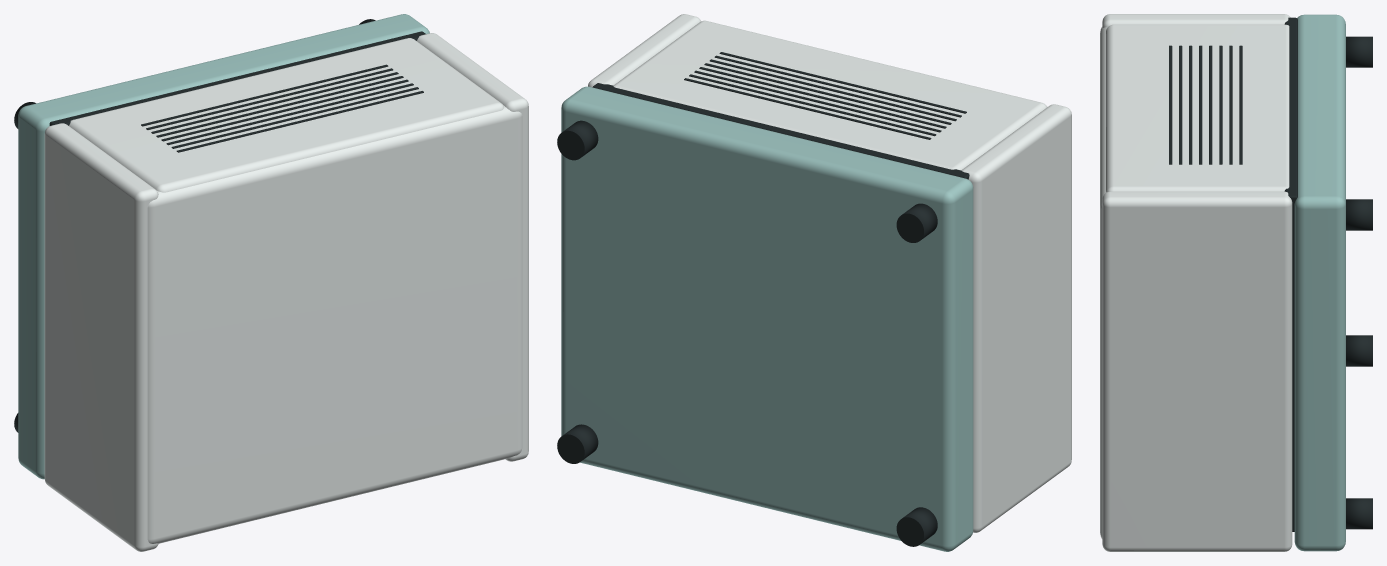
The picture shows the model from 3 angles, left to right: view 1: azimuth 30°, elevation 25°; view 2: azimuth 150°, elevation 25°; view 3: azimuth 270°, elevation 25°; orthographic projection.
Visible parts, largest first — view 1: top_cover, left_wall, rear_wall, base_plinth, right_wall, chamber_floor, rear_vent_3, rear_vent_4, rear_vent_0, rear_vent_1, rear_vent_2, rear_vent_6 (+2 smaller); view 2: base_plinth, left_wall, rear_wall, chamber_floor, right_wall, foot_1_0, foot_0_0, foot_1_1, foot_0_1, rear_vent_2, rear_vent_5, rear_vent_4 (+5 smaller); view 3: right_wall, rear_wall, base_plinth, chamber_floor, left_wall, top_cover, foot_0_0, foot_0_1, foot_1_0, foot_1_1, rear_vent_1, rear_vent_2 (+6 smaller).
Part boxes in pixels (left/top/right/bottom): top_cover: left=147, top=105, right=522, bottom=543; left_wall: left=44, top=123, right=158, bottom=551; rear_wall: left=69, top=38, right=503, bottom=192; base_plinth: left=18, top=14, right=429, bottom=479; right_wall: left=417, top=33, right=528, bottom=461; chamber_floor: left=49, top=31, right=425, bottom=125; rear_vent_3: left=156, top=76, right=403, bottom=137; rear_vent_4: left=161, top=79, right=408, bottom=141; rear_vent_0: left=141, top=64, right=388, bottom=126; rear_vent_1: left=146, top=68, right=393, bottom=129; rear_vent_2: left=151, top=72, right=398, bottom=133; rear_vent_6: left=171, top=87, right=418, bottom=148; base_plinth: left=561, top=86, right=973, bottom=551; left_wall: left=961, top=104, right=1071, bottom=532; rear_wall: left=613, top=20, right=1046, bottom=170; chamber_floor: left=592, top=83, right=969, bottom=179; right_wall: left=588, top=14, right=701, bottom=87; foot_1_0: left=557, top=424, right=598, bottom=463; foot_0_0: left=896, top=507, right=937, bottom=546; foot_1_1: left=557, top=120, right=598, bottom=160; foot_0_1: left=896, top=203, right=937, bottom=242; rear_vent_2: left=694, top=70, right=941, bottom=132; rear_vent_5: left=709, top=59, right=956, bottom=121; rear_vent_4: left=704, top=63, right=951, bottom=124; right_wall: left=1102, top=191, right=1292, bottom=551; rear_wall: left=1106, top=24, right=1289, bottom=192; base_plinth: left=1294, top=14, right=1345, bottom=551; chamber_floor: left=1284, top=17, right=1297, bottom=531; left_wall: left=1102, top=14, right=1290, bottom=27; top_cover: left=1100, top=27, right=1107, bottom=538; foot_0_0: left=1346, top=335, right=1372, bottom=366; foot_0_1: left=1346, top=36, right=1372, bottom=67; foot_1_0: left=1346, top=498, right=1372, bottom=529; foot_1_1: left=1346, top=199, right=1372, bottom=230; rear_vent_1: left=1229, top=45, right=1232, bottom=164; rear_vent_2: left=1219, top=45, right=1222, bottom=164.
Bounding box in the file's own units: 0.4 × 0.3565 × 0.244.
